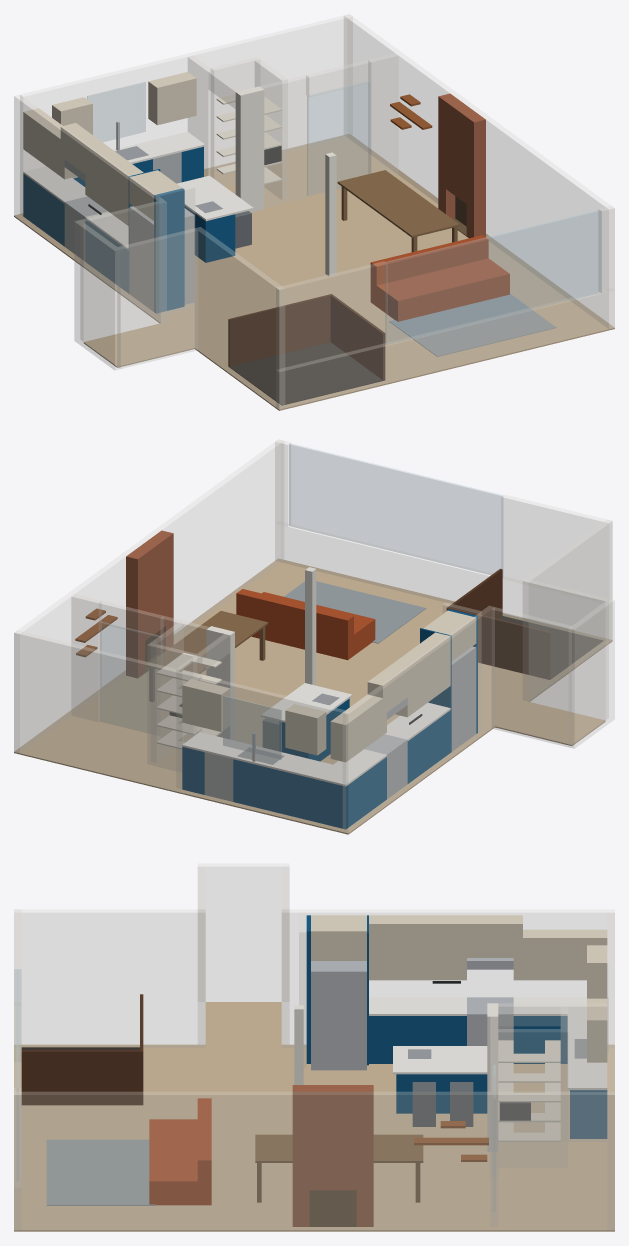
Rendered from twin.glb.
3 renders of one model, top to bottom at view 1: azimuth 30°, elevation 25°; view 2: azimuth 150°, elevation 25°; view 3: azimuth 270°, elevation 25°, orthographic. The views are drawn at different scales.
Visible parts, largest first — view 1: floor_main, wall_e, wall_n, win_south, wall_w_kitchen, wall_s_sill, wall_w_south, wall_hall_s, wall_hall_n, wall_s_w, wall_hall_end, office_slider (+46 smaller); view 2: wall_n, floor_main, wall_e, wall_w_kitchen, win_south, wall_hall_n, wall_hall_s, wall_s_w, wall_s_sill, wall_w_south, wall_hall_end, office_slider (+48 smaller); view 3: wall_e, floor_main, wall_w_south, wall_hall_end, wall_w_kitchen, wall_niche_e, f_rug, stair_rail_e, fridge, wall_stub3, fireplace_top, f_sofa_seat (+49 smaller).
Boxes of the visible parts, x1=… form: floor_main: x1=14, y1=134, x2=614, y2=410; wall_e: x1=344, y1=14, x2=614, y2=328; wall_n: x1=20, y1=14, x2=352, y2=215; win_south: x1=385, y1=210, x2=600, y2=344; wall_w_kitchen: x1=14, y1=95, x2=166, y2=322; wall_s_sill: x1=276, y1=290, x2=614, y2=409; wall_w_south: x1=195, y1=227, x2=284, y2=409; wall_hall_s: x1=117, y1=228, x2=197, y2=368; wall_hall_n: x1=80, y1=201, x2=160, y2=341; wall_s_w: x1=276, y1=261, x2=387, y2=371; wall_hall_end: x1=74, y1=220, x2=120, y2=370; office_slider: x1=307, y1=81, x2=369, y2=195; wall_n: x1=14, y1=630, x2=345, y2=831; floor_main: x1=14, y1=558, x2=612, y2=834; wall_e: x1=14, y1=439, x2=283, y2=752; wall_w_kitchen: x1=343, y1=606, x2=494, y2=832; win_south: x1=289, y1=443, x2=503, y2=576; wall_hall_n: x1=492, y1=607, x2=571, y2=746; wall_hall_s: x1=529, y1=580, x2=608, y2=719; wall_s_w: x1=501, y1=495, x2=612, y2=604; wall_s_sill: x1=275, y1=523, x2=611, y2=641; wall_w_south: x1=523, y1=520, x2=612, y2=700; wall_hall_end: x1=569, y1=599, x2=614, y2=748; office_slider: x1=100, y1=622, x2=161, y2=733; wall_e: x1=14, y1=1092, x2=614, y2=1229; floor_main: x1=14, y1=1044, x2=614, y2=1231; wall_w_south: x1=14, y1=909, x2=205, y2=1047; wall_hall_end: x1=198, y1=863, x2=289, y2=1001; wall_w_kitchen: x1=282, y1=909, x2=614, y2=1047; wall_niche_e: x1=498, y1=1029, x2=560, y2=1166; f_rug: x1=46, y1=1139, x2=155, y2=1205; stair_rail_e: x1=21, y1=1050, x2=142, y2=1105; fridge: x1=311, y1=961, x2=366, y2=1070; wall_stub3: x1=561, y1=1003, x2=606, y2=1141; fireplace_top: x1=309, y1=1085, x2=356, y2=1190; f_sofa_seat: x1=149, y1=1119, x2=211, y2=1205.
Size of the model in its own units: 8.94 by 2.46 by 9.8.
